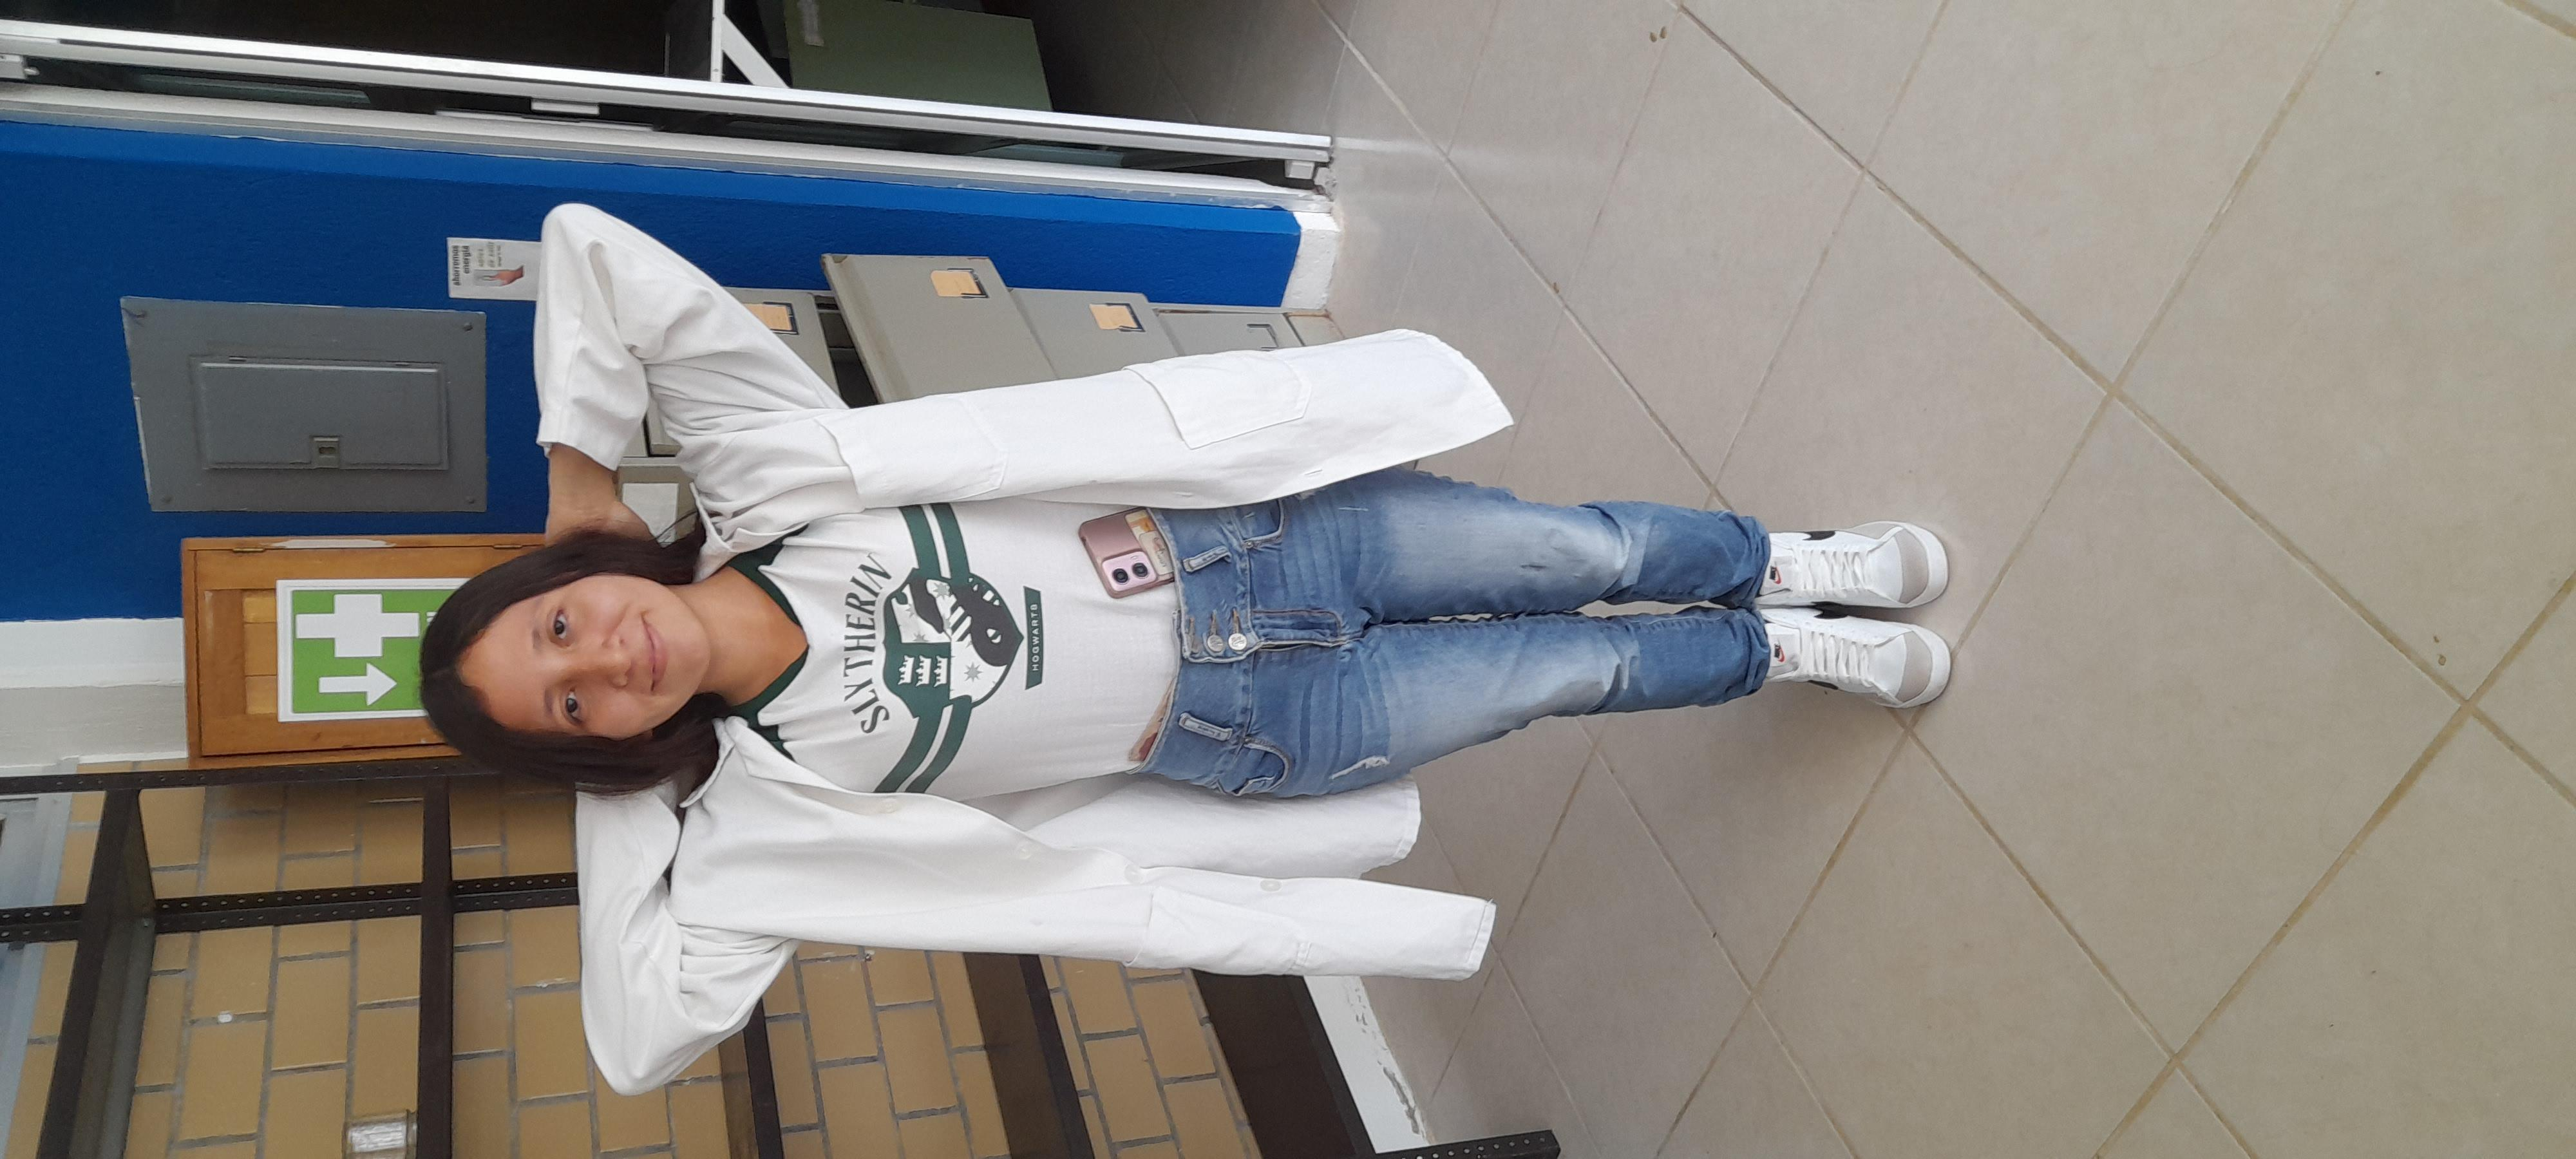Bata-Incorrecta: (85, 166, 2318, 901)
